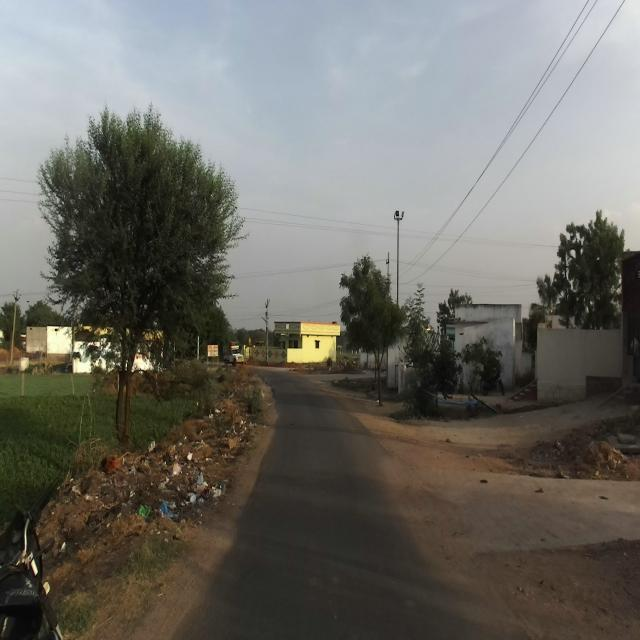motorcycle_bajaj: (0, 474, 62, 639)
truck: (222, 340, 244, 365)
